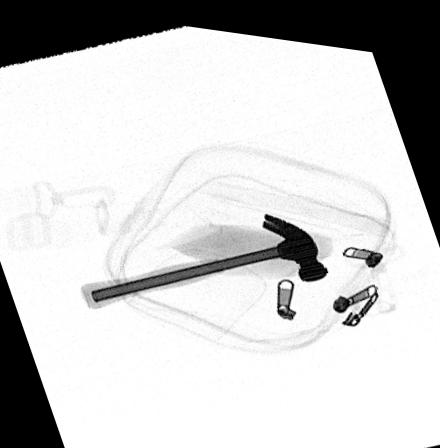Hammer: (79, 204, 328, 305)
